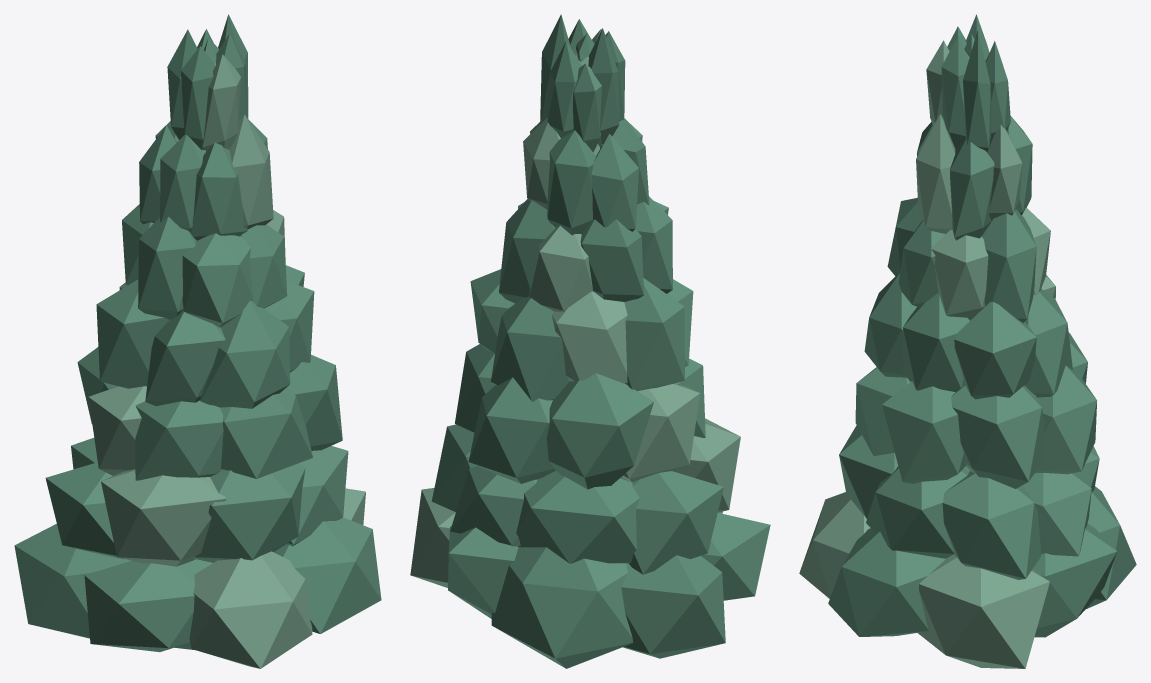
The model's file is pine_tall_a.glb.
The picture shows the model from 3 angles, left to right: view 1: azimuth 30°, elevation 25°; view 2: azimuth 150°, elevation 25°; view 3: azimuth 270°, elevation 25°; orthographic projection.
Parts seen in each view (by area): view 1: pine_tall_a; view 2: pine_tall_a; view 3: pine_tall_a.
Boxes of the visible parts, x1,y1,x2,y2 form: pine_tall_a: (14, 14, 381, 668); pine_tall_a: (410, 14, 770, 668); pine_tall_a: (799, 14, 1136, 668).
Bounding box in the file's own units: 4 × 7.5 × 3.65.
